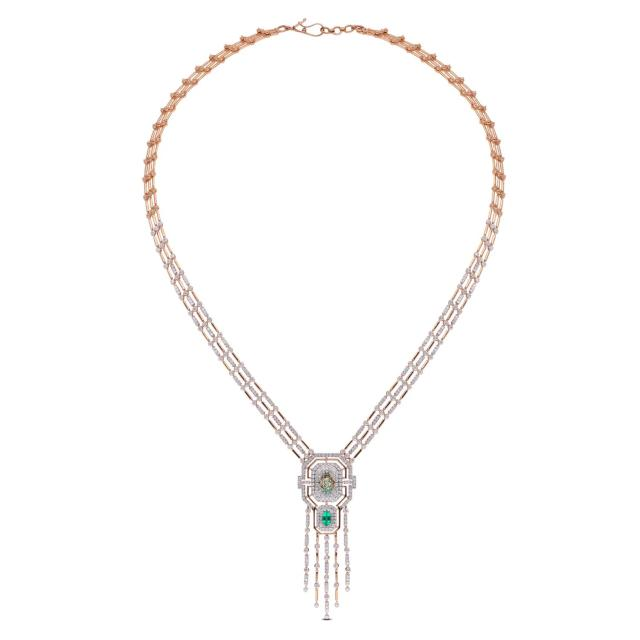missing gem: (321, 474, 335, 492)
